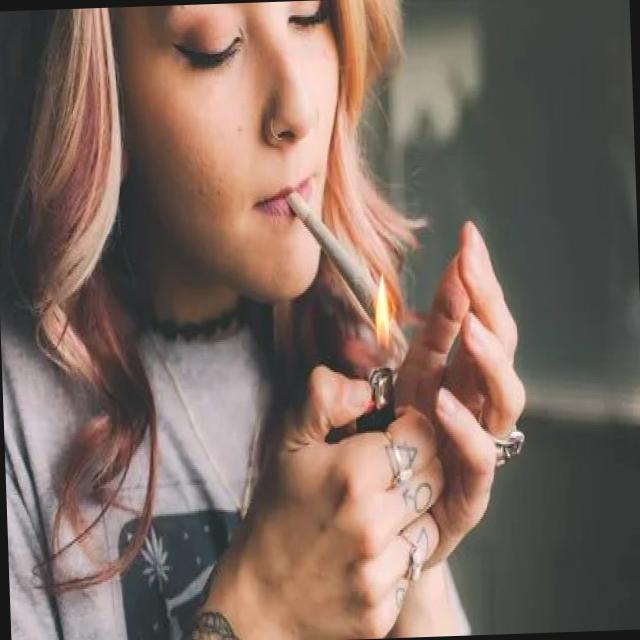smoke: (286, 182, 394, 349)
